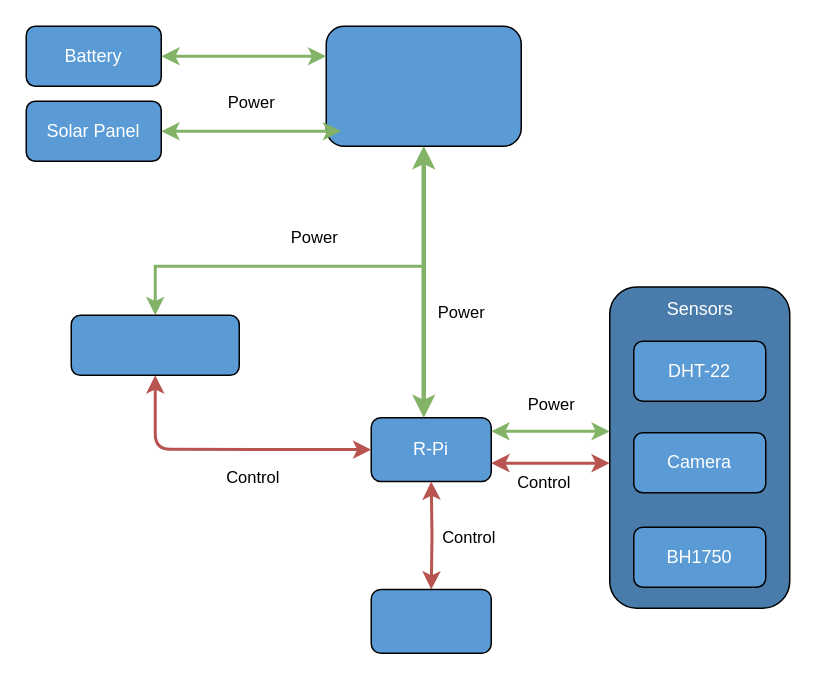
Some shapes in this 816 by 680 pixel diagram are drawn without their labels. Each missing label, with the centre of its shape:
"Backpack charger" goes at [154,344].
"Power Manager" goes at [423,85].
"RTC" goes at [430,620].
